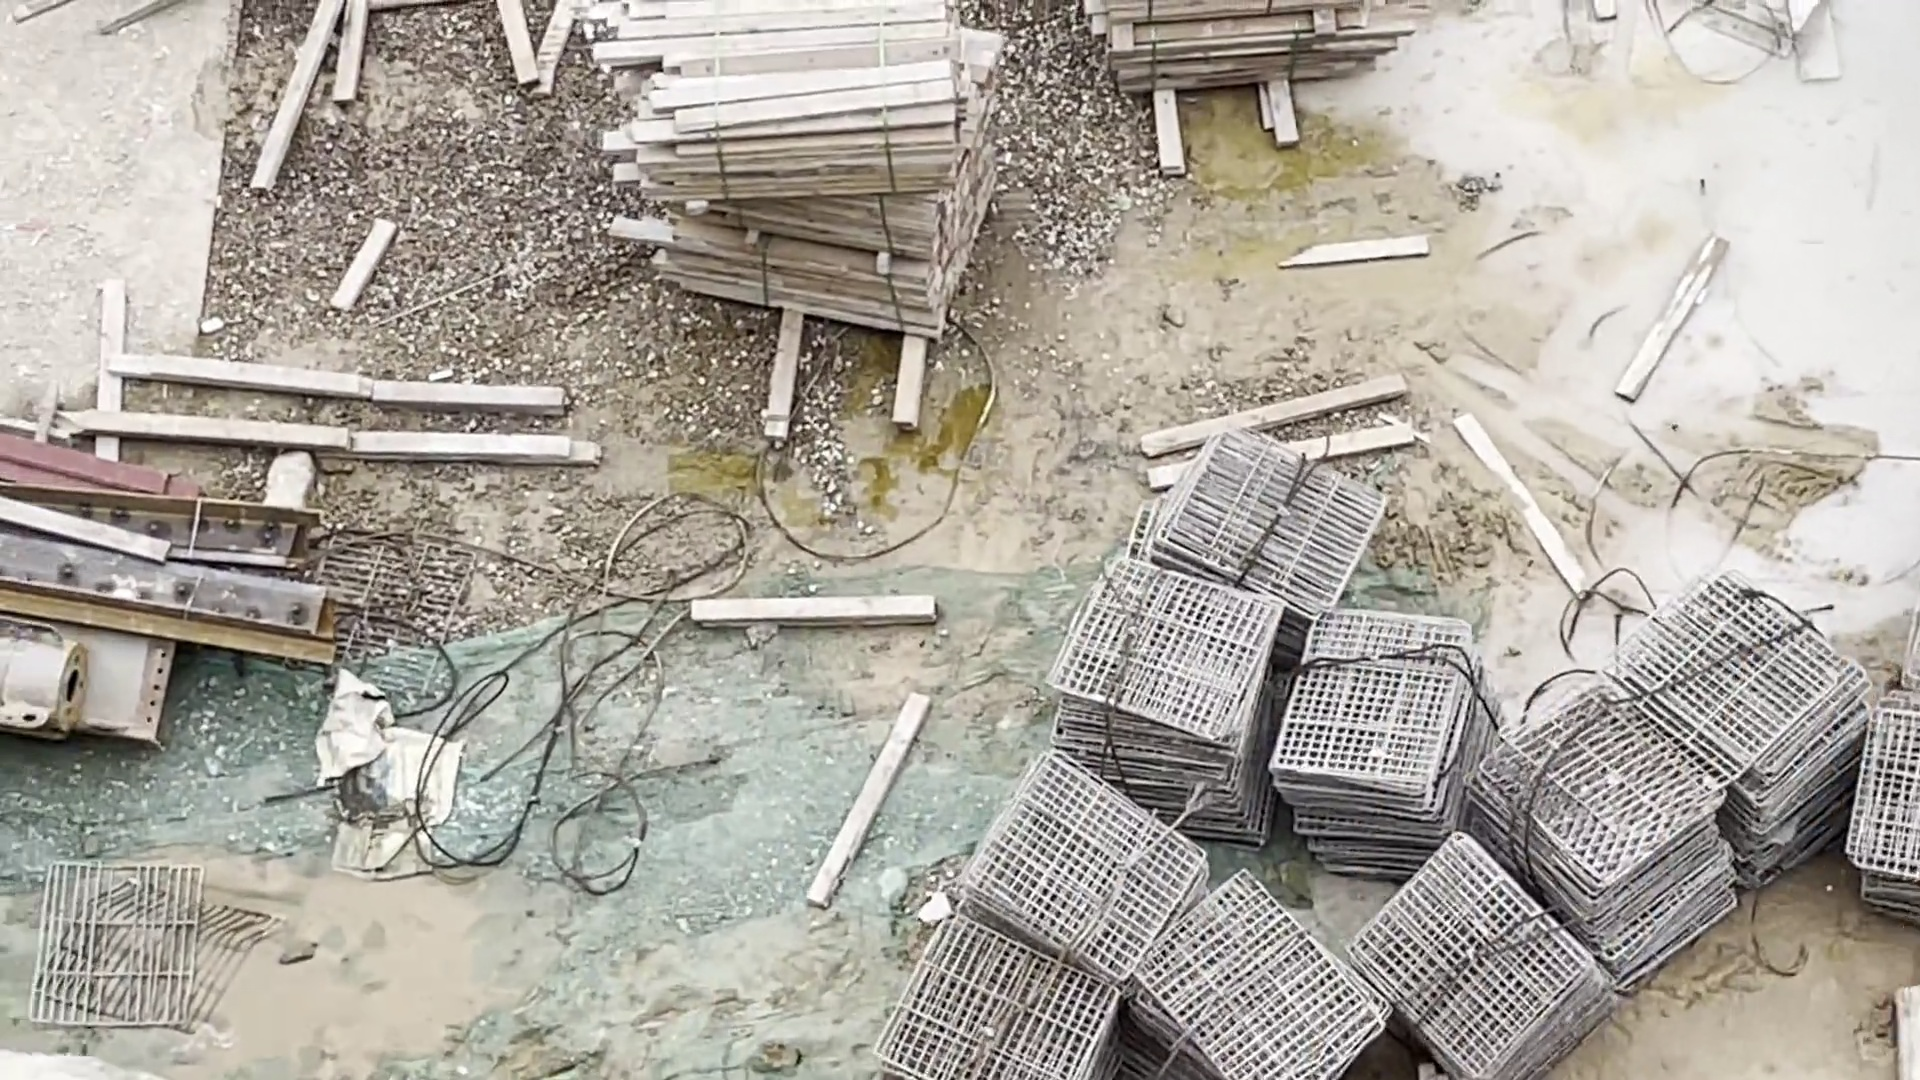wood: (607, 8, 957, 332), (1091, 4, 1352, 104)
